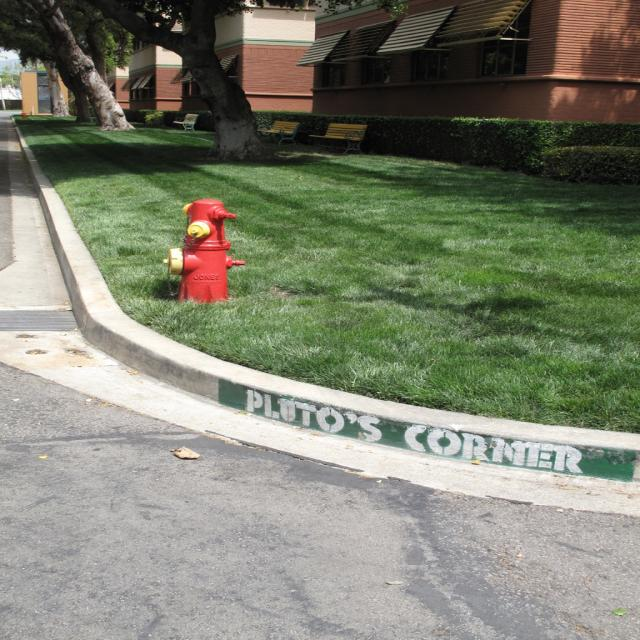fire_hydrant: (160, 198, 248, 302)
